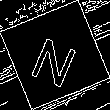N_NE: (26, 24, 84, 86)
